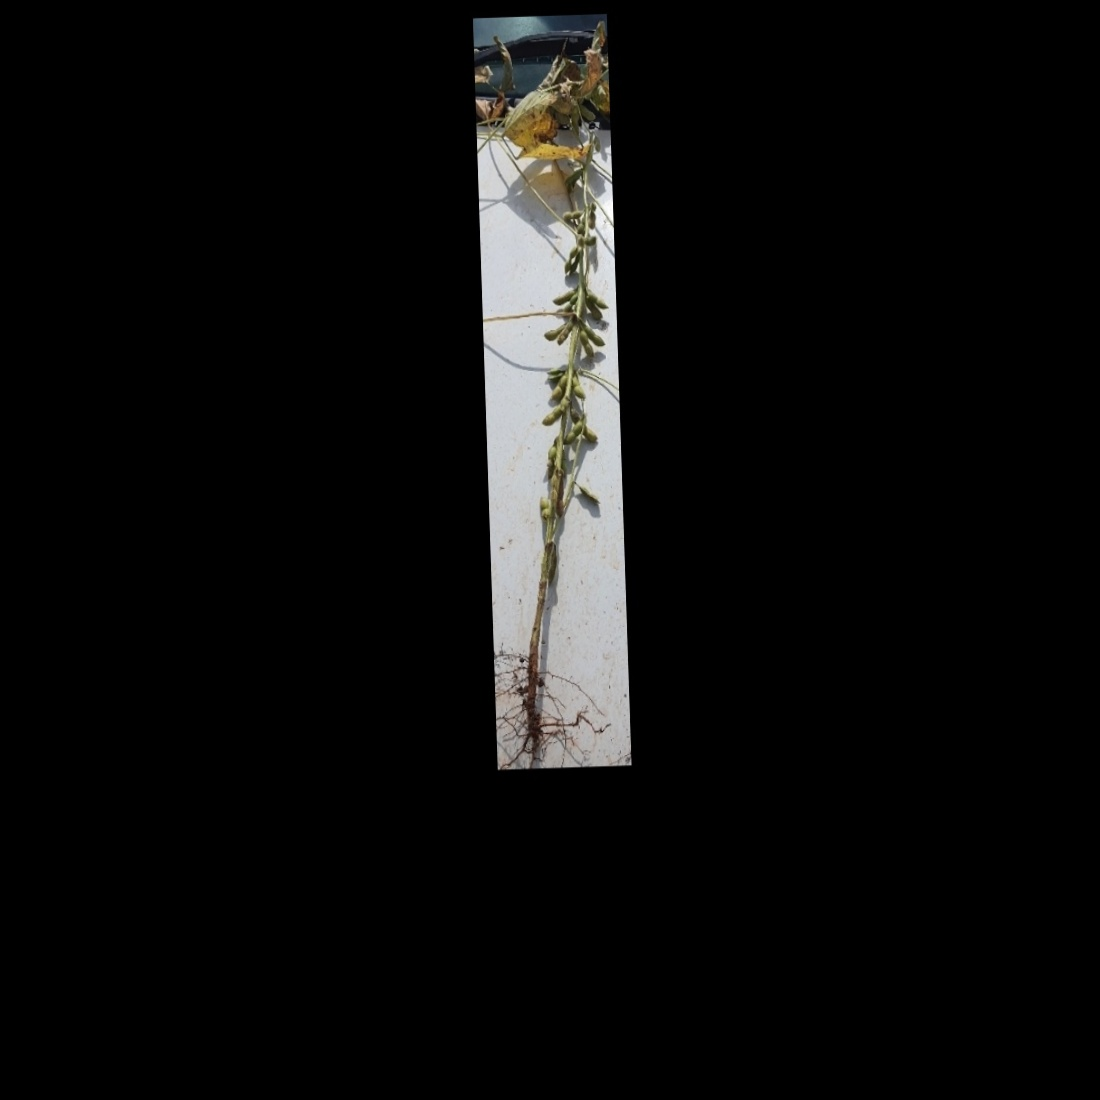pod: (539, 403, 568, 427), (561, 418, 585, 447), (577, 483, 603, 507), (576, 327, 595, 359), (560, 243, 577, 276), (554, 321, 574, 347), (583, 295, 602, 320), (589, 288, 611, 308), (570, 376, 586, 401), (555, 477, 565, 517), (560, 295, 577, 316), (561, 207, 585, 221), (544, 438, 559, 460), (586, 201, 597, 231), (540, 496, 550, 521), (592, 135, 602, 156)
soy: (484, 41, 624, 749)
